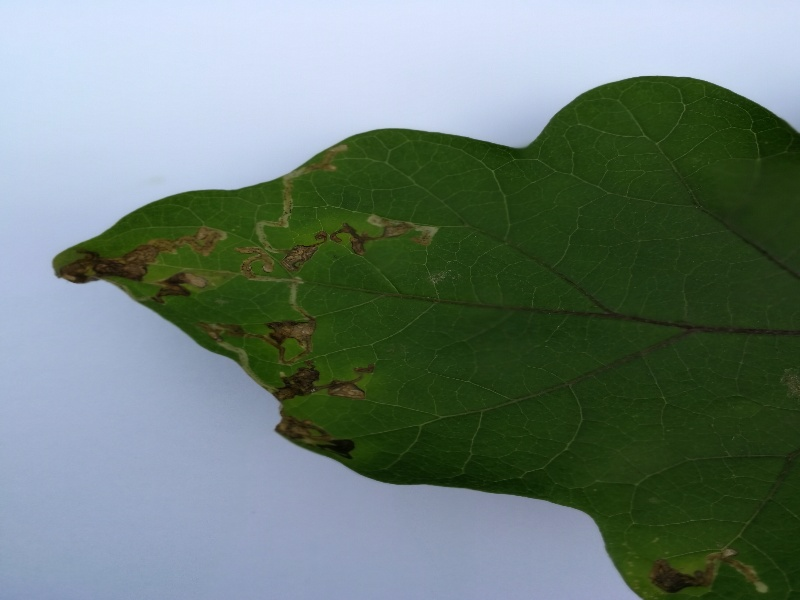leafminer: (215, 135, 350, 315), (198, 319, 376, 408), (57, 221, 230, 299), (641, 549, 771, 600), (328, 212, 441, 264), (272, 408, 372, 461)
